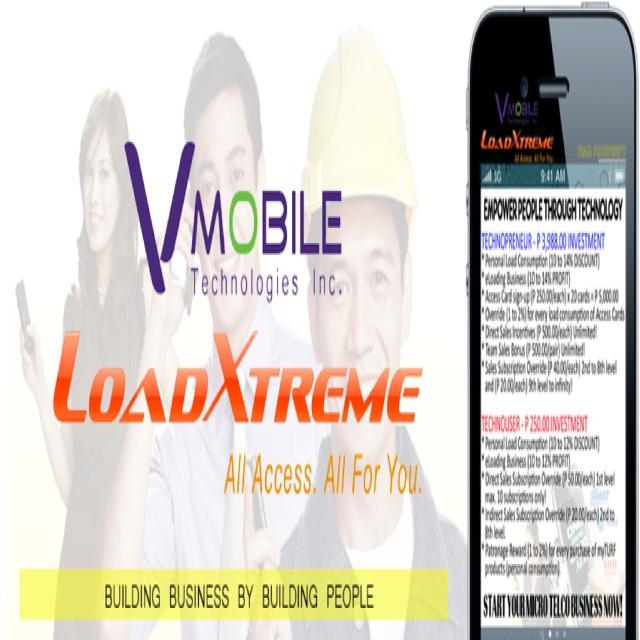Mobile-phone: (460, 0, 636, 640), (244, 453, 265, 526), (15, 280, 30, 350), (186, 209, 191, 311)
